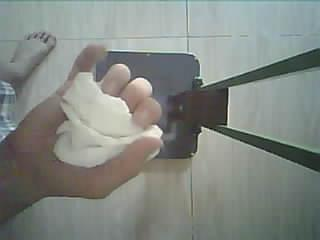paper: (54, 72, 162, 168)
